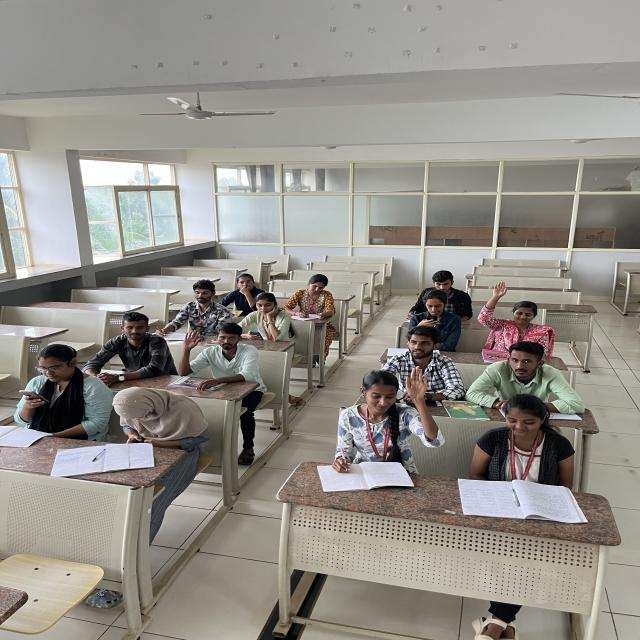Hand Rising: (333, 364, 449, 447), (480, 282, 557, 342), (180, 324, 251, 377)
Reading: (468, 394, 578, 490)
Using Phone: (15, 343, 91, 437), (112, 382, 199, 450), (407, 290, 459, 342), (239, 293, 291, 342)
Writing: (146, 282, 232, 342), (401, 272, 473, 320), (288, 273, 340, 319)
